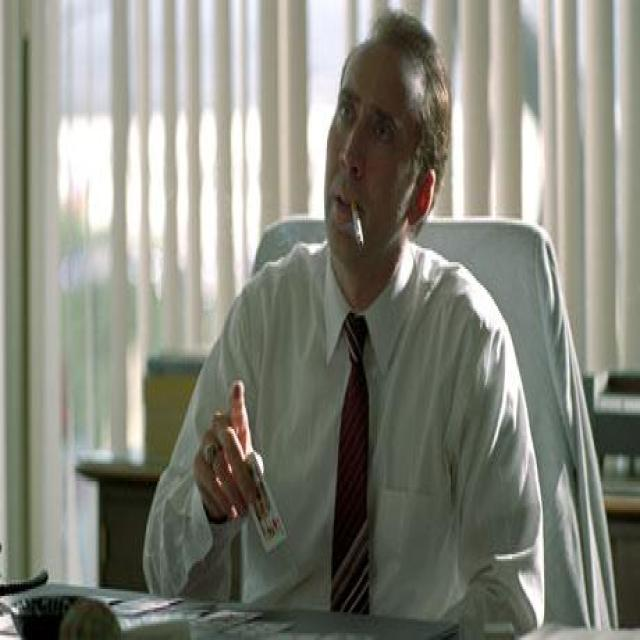cigarette: (344, 186, 368, 272)
